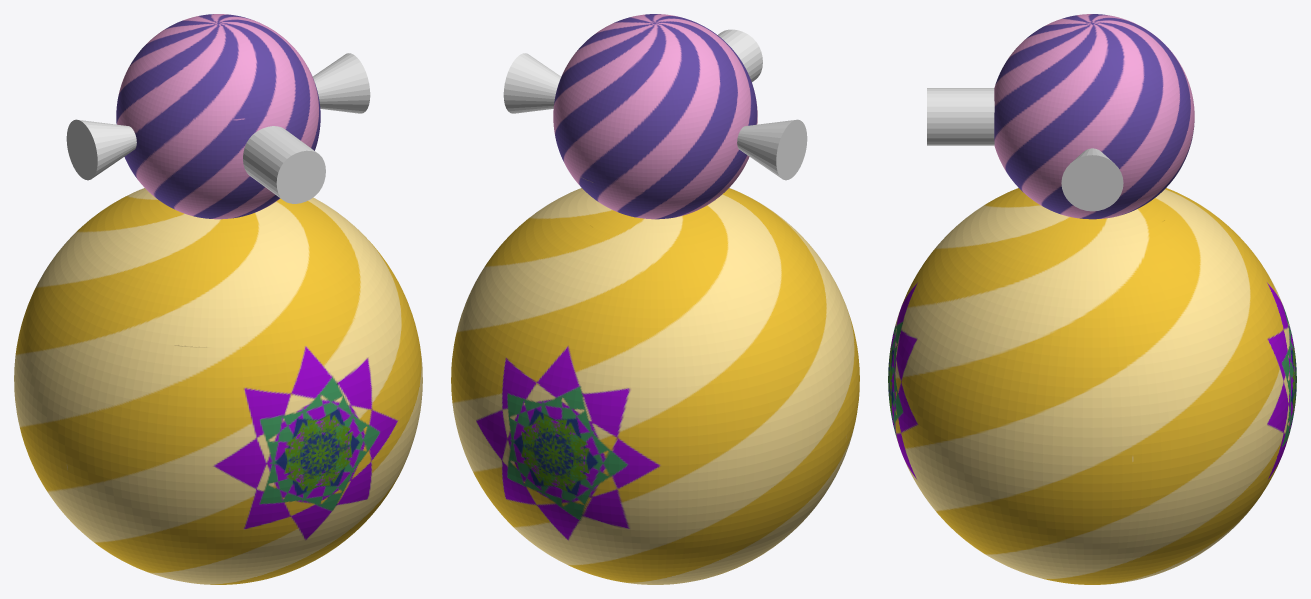
The model's file is BOD0_BMC13_BCC6_BPT3_FRC24_HEA0_HMC17_HCC9_HPT3_ELT3_ERT3_ELL0_ERL0_AP0_AAL0_AAR0_BEK1.fbx.
The picture shows the model from 3 angles, left to right: view 1: azimuth 30°, elevation 25°; view 2: azimuth 150°, elevation 25°; view 3: azimuth 270°, elevation 25°; orthographic projection.
Parts seen in each view (by area): view 1: Body, Beak, Ear, Ear.001; view 2: Body, Ear, Ear.001, Beak; view 3: Body, Beak, Ear.001.
Part boxes in pixels (bbox=[...]): Body: bbox=[14, 14, 422, 584]; Beak: bbox=[243, 126, 325, 203]; Ear: bbox=[66, 119, 136, 180]; Ear.001: bbox=[313, 53, 370, 113]; Body: bbox=[451, 14, 859, 584]; Ear: bbox=[737, 119, 807, 180]; Ear.001: bbox=[503, 53, 560, 113]; Beak: bbox=[718, 29, 762, 81]; Body: bbox=[888, 14, 1296, 584]; Beak: bbox=[927, 88, 994, 145]; Ear.001: bbox=[1061, 148, 1123, 211].
Size of the model in its own units: 49.36 by 72.41 by 49.36.
1 material, 1 textured.
